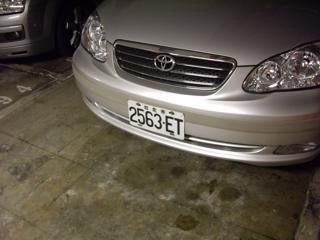plate: (125, 97, 187, 142)
